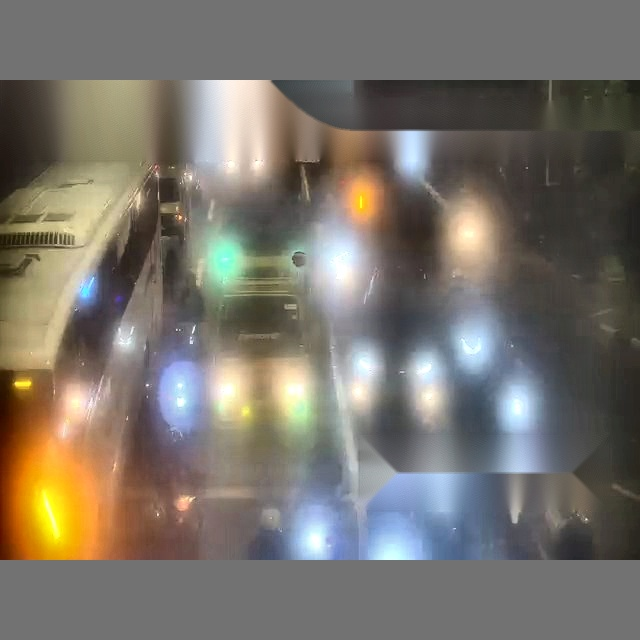Motor: (349, 343, 380, 424)
